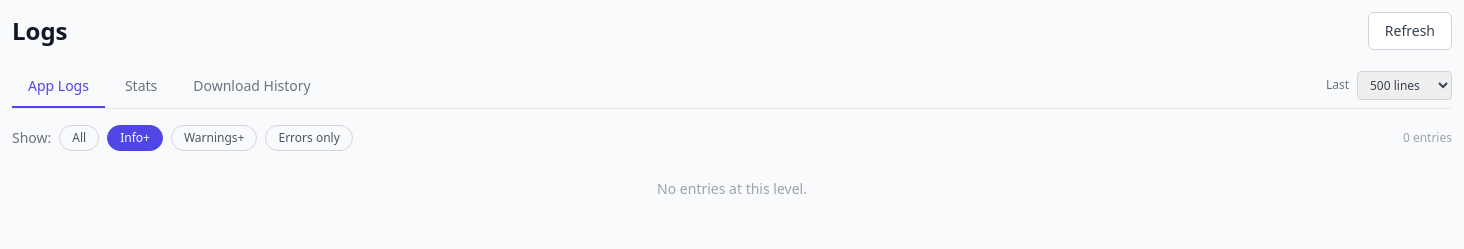
Test case: LogsPage › renders the download history table
Step 1. Click the button "Download History" → point(252, 87), box x1=177 y1=66 x2=327 y2=108
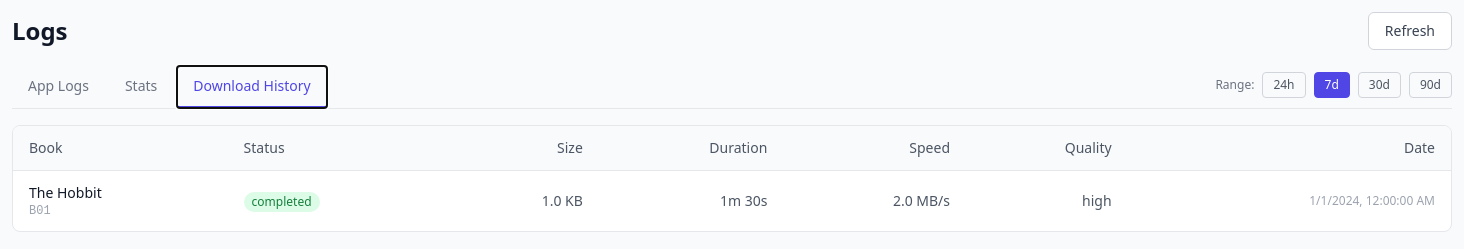
Now the text "The Hobbit" is shown, box x1=29 y1=183 x2=102 y2=202
